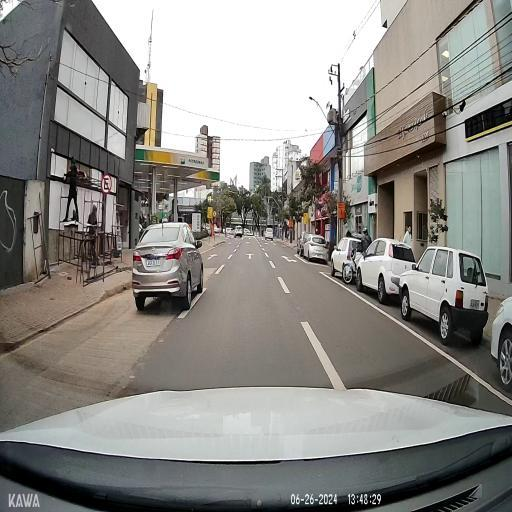R-6a: (101, 174, 112, 192)
